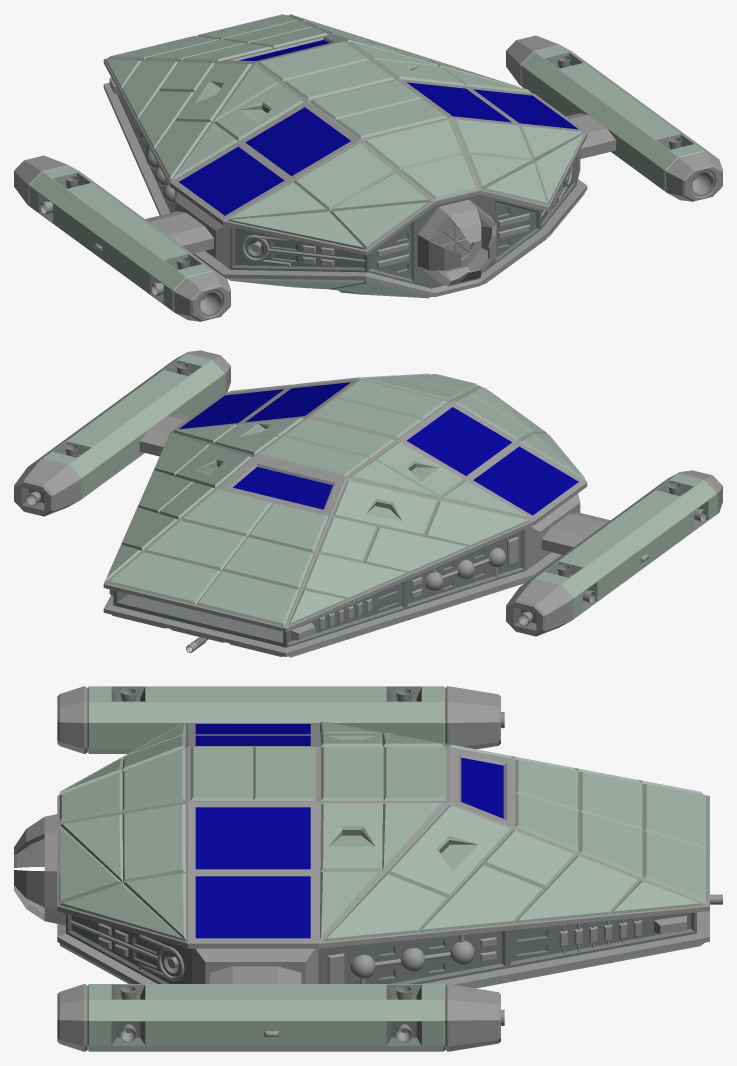
Rendered from lod3_body.dae.
3 views of the same model, one above another, from view 1: azimuth 30°, elevation 25°; view 2: azimuth 150°, elevation 25°; view 3: azimuth 270°, elevation 25° (orthographic). The views are drawn at different scales.
Visible parts, largest first — view 1: body0, metal, win, inside; view 2: body0, metal, win, inside; view 3: body0, metal, win, inside.
Part boxes in pixels (box(x1,y1,x2,y2)): body0: box(30, 14, 716, 311); metal: box(14, 15, 722, 321); win: box(179, 40, 578, 215); inside: box(38, 52, 715, 316); body0: box(30, 353, 717, 657); metal: box(14, 350, 722, 656); win: box(179, 382, 578, 515); inside: box(21, 360, 708, 647); body0: box(59, 686, 707, 1051); metal: box(14, 686, 722, 1051); win: box(195, 724, 503, 938); inside: box(66, 686, 696, 1045).
Bounding box in the file's own units: 30.19 × 27.16 × 8.19.
